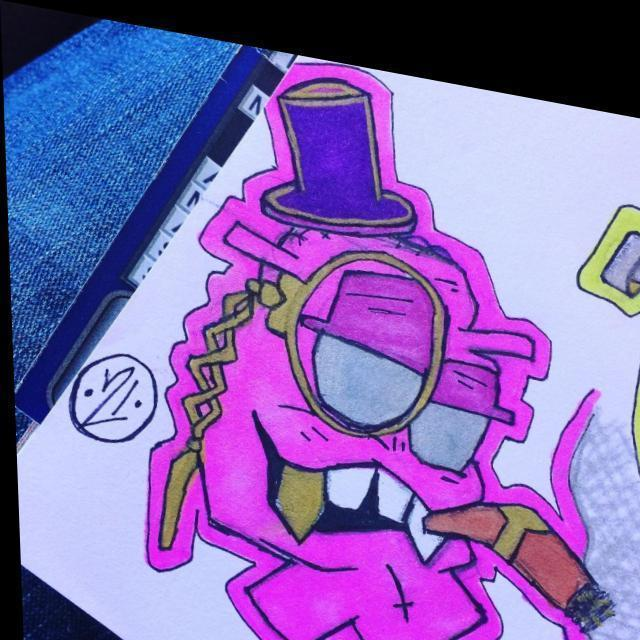nonspitting: (72, 354, 159, 445)
spitting: (149, 60, 617, 638)
